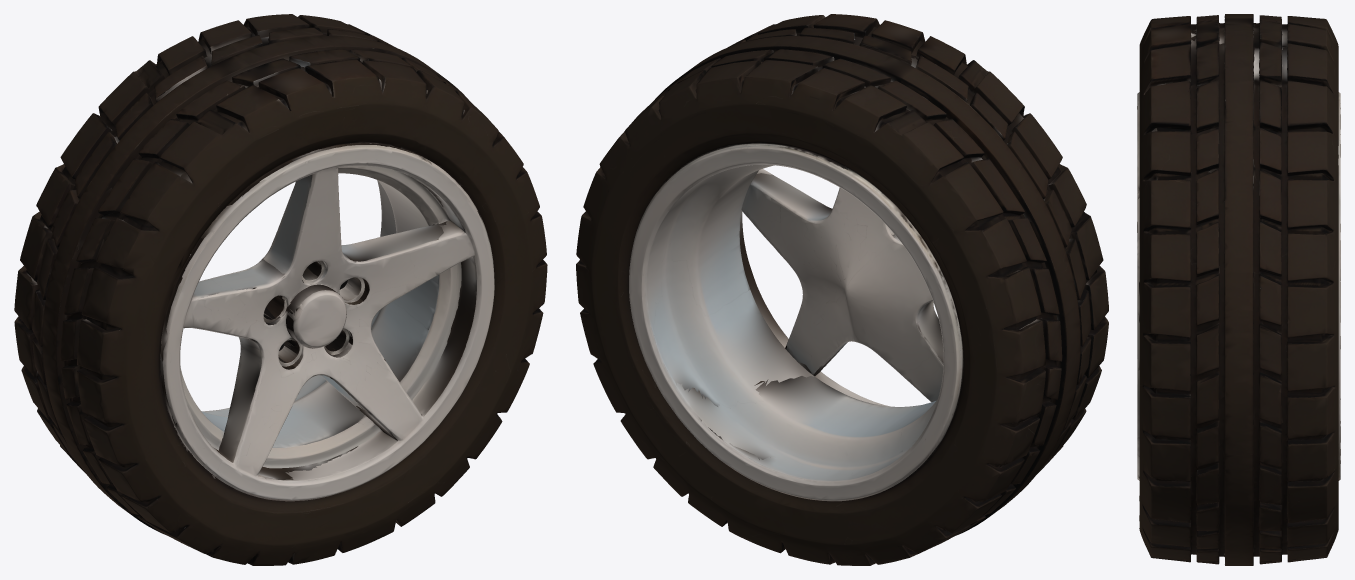
Rendered from SpareTire.fbx.
The picture shows the model from 3 angles, left to right: view 1: azimuth 30°, elevation 25°; view 2: azimuth 150°, elevation 25°; view 3: azimuth 270°, elevation 25°; orthographic projection. The views are drawn at different scales.
Visible parts, largest first — view 1: texture_pbr_v128; view 2: texture_pbr_v128; view 3: texture_pbr_v128.
Part boxes in pixels (x1=…): texture_pbr_v128: x1=14, y1=14, x2=547, y2=565; texture_pbr_v128: x1=576, y1=14, x2=1108, y2=565; texture_pbr_v128: x1=1137, y1=14, x2=1340, y2=565.
Size of the model in its own units: 115 by 115 by 43.09.
1 material, 1 textured.
